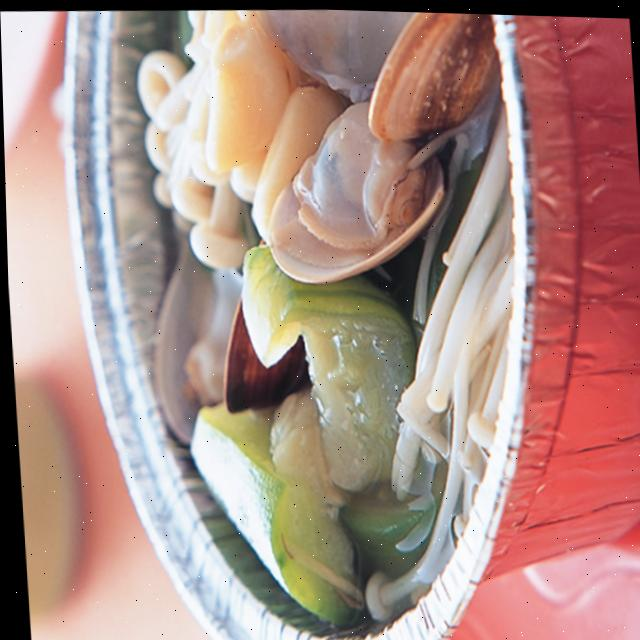Wet: (121, 3, 549, 607)
